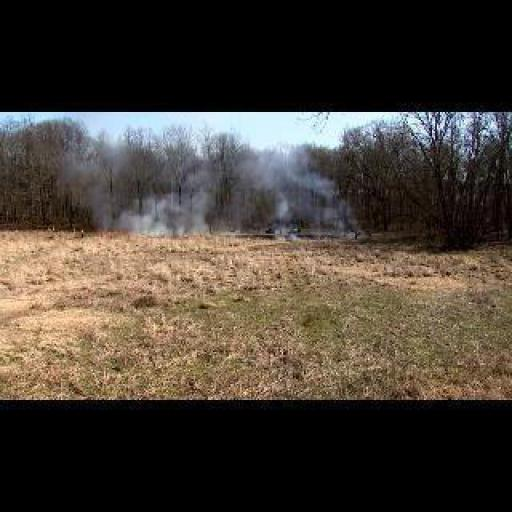smoke: (241, 141, 343, 225), (110, 180, 206, 244), (107, 230, 114, 237), (99, 230, 104, 236)
